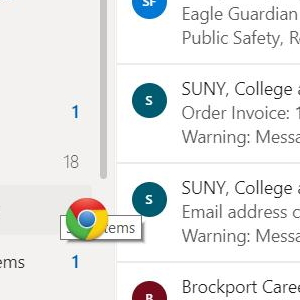chrome: (65, 197, 109, 242)
